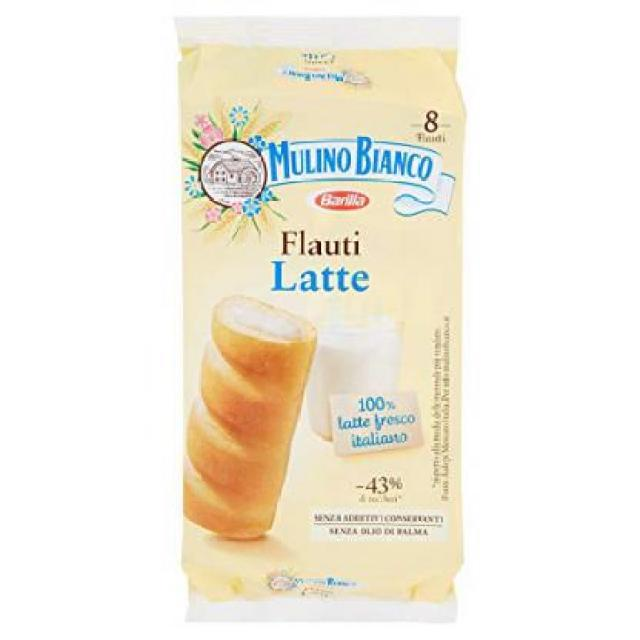Merendine: (168, 14, 462, 626)
Merendine packaged: (181, 296, 317, 542)
